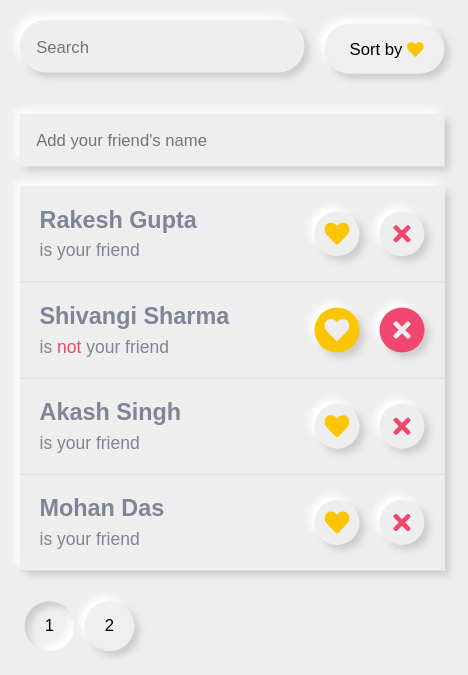
<FriendsList /> › search filter works
The image size is (468, 675).
Step 1. Type "Rakesh" into the field with test id "search-input" → (162, 46), box [20,20,304,72]
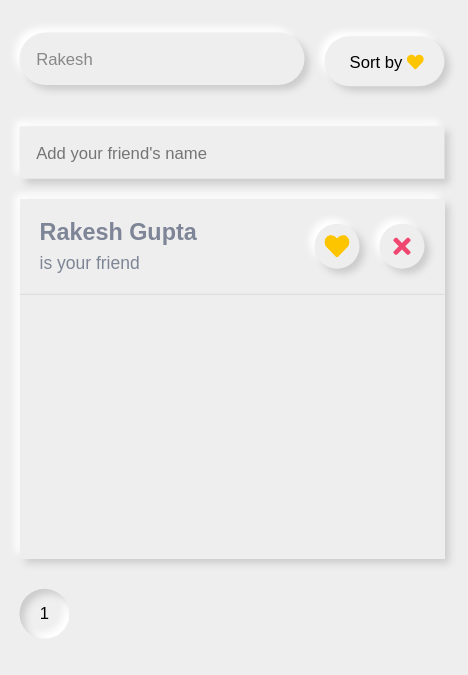
Step 2. Replace the text in the field with test id "search-input" with "Random Name" → (162, 59), box [20,33,304,85]
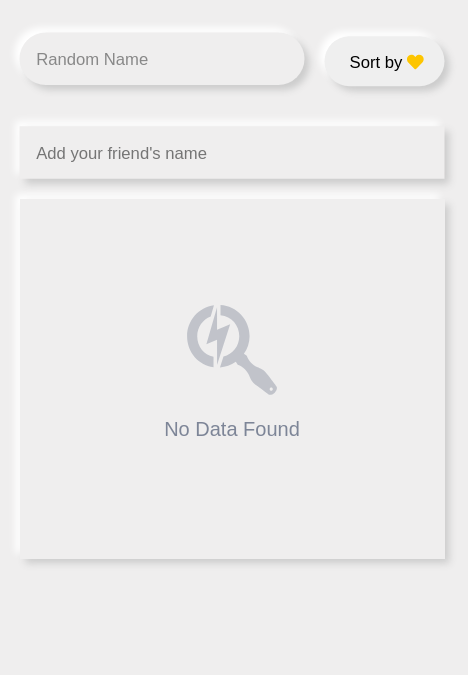
Expected: the element with test id "no-data-found" is shown, [164,299,300,440]
